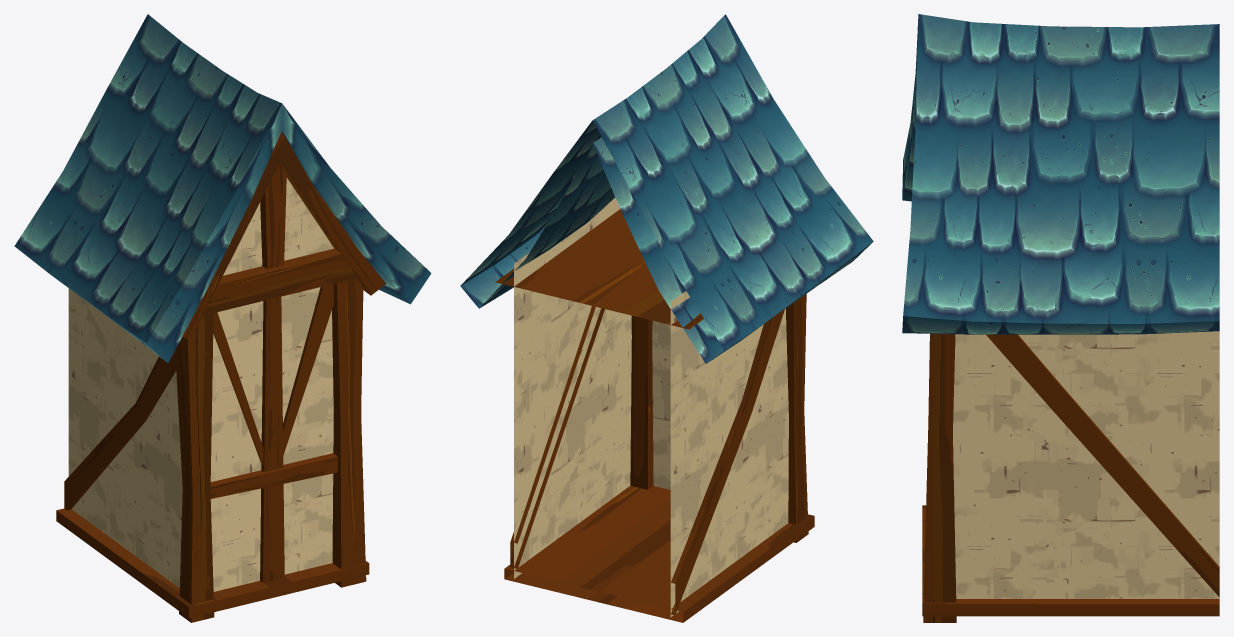
File: SM_BLD_body_add_v02_01.fbx
3 views of the same model, side by side, from view 1: azimuth 30°, elevation 25°; view 2: azimuth 150°, elevation 25°; view 3: azimuth 270°, elevation 25° (orthographic). The views are drawn at different scales.
Parts seen in each view (by area): view 1: SM_BLD_body_add_v02_01; view 2: SM_BLD_body_add_v02_01; view 3: SM_BLD_body_add_v02_01.
Boxes of the visible parts, x1=… form: SM_BLD_body_add_v02_01: x1=14, y1=14, x2=431, y2=622; SM_BLD_body_add_v02_01: x1=460, y1=14, x2=873, y2=622; SM_BLD_body_add_v02_01: x1=902, y1=14, x2=1219, y2=622.
Size of what is drawn, in the model's own units: 535 by 898 by 460.
